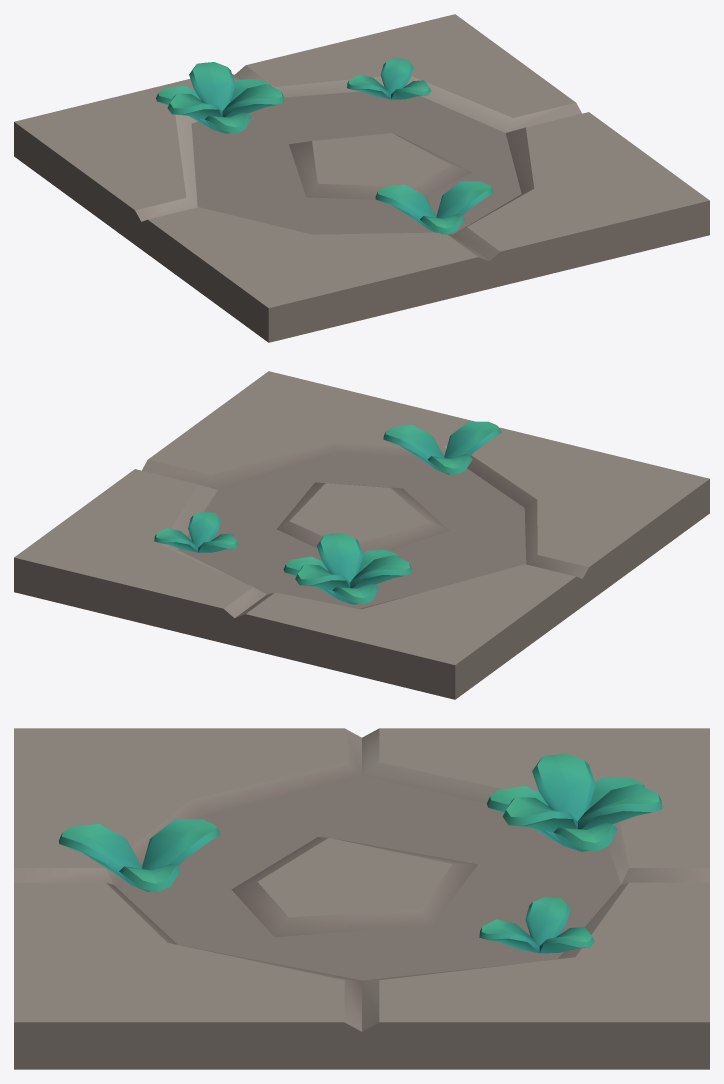
File: floor_tile_small_weeds_A.gltf
3 renders of one model, top to bottom at view 1: azimuth 30°, elevation 25°; view 2: azimuth 150°, elevation 25°; view 3: azimuth 270°, elevation 25°, orthographic. The views are drawn at different scales.
Visible parts, largest first — view 1: floor_tile_small_weeds_A; view 2: floor_tile_small_weeds_A; view 3: floor_tile_small_weeds_A.
Boxes of the visible parts, x1=… form: floor_tile_small_weeds_A: x1=14, y1=14, x2=709, y2=342; floor_tile_small_weeds_A: x1=14, y1=371, x2=709, y2=699; floor_tile_small_weeds_A: x1=14, y1=728, x2=709, y2=1069.
Bounding box in the file's own units: 2 × 0.2955 × 2.
1 material, 1 textured.
